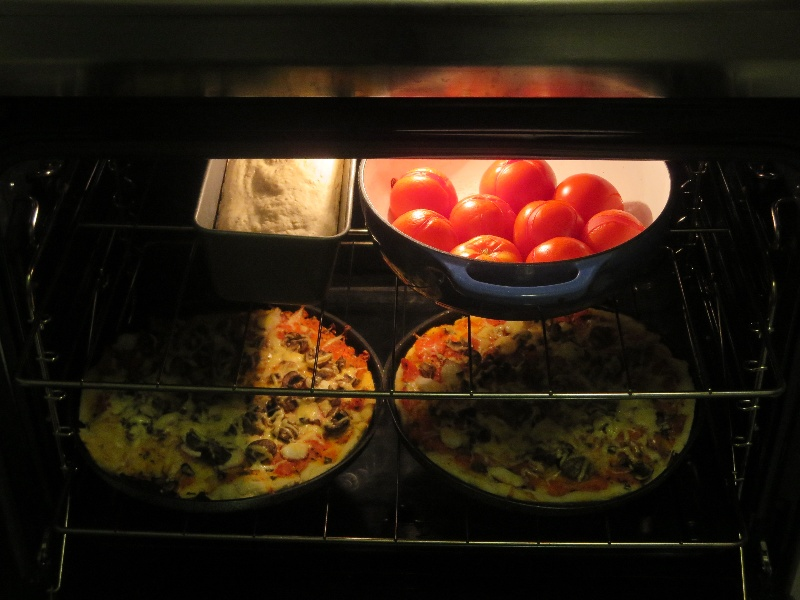oven: (5, 12, 790, 600)
